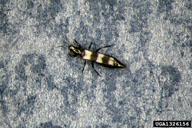Thrips: (65, 38, 130, 77)
